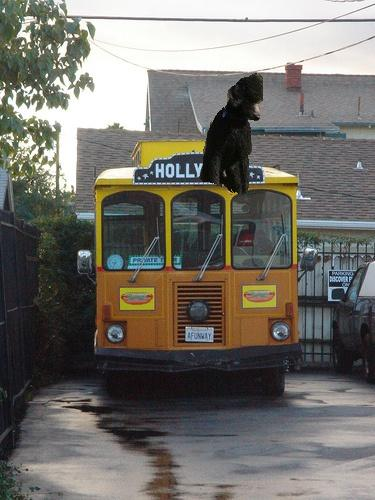tampered: (200, 74, 263, 195)
